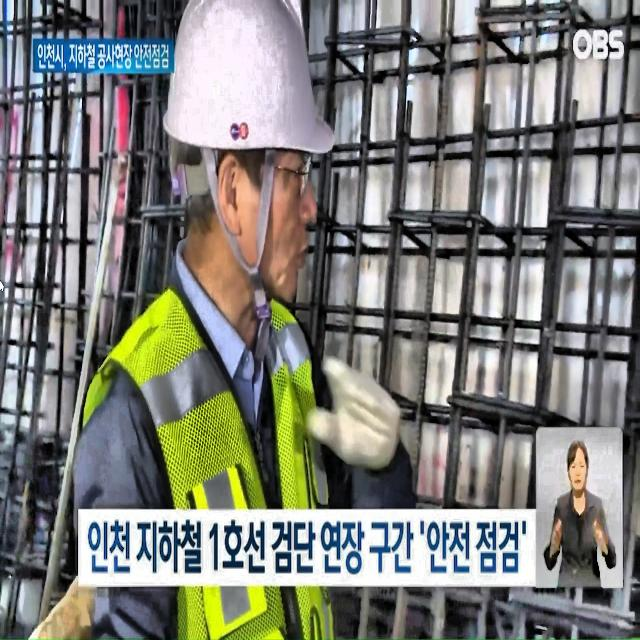safety_helmet: (164, 0, 336, 178)
safety_jacket: (83, 283, 340, 640)
